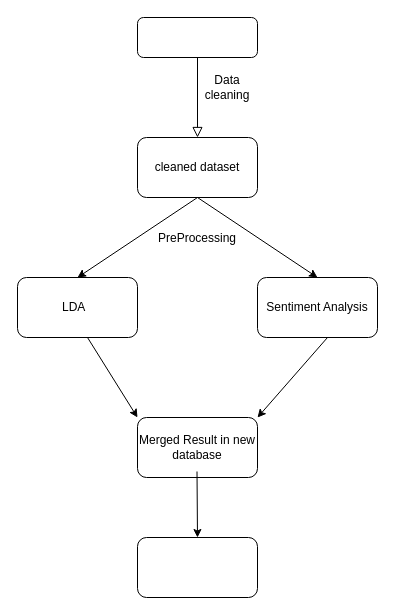
Image size: 395x615. Some labels were removed from this diagram. The shapes that lost their labels are listed below. From the top down, each one's box as (x1, y1, x2, y2) in pixels, then its label:
(136, 16, 258, 58): Kaggle Dataset -lyrics-from-metrolyrics
(136, 536, 258, 598): Site web
